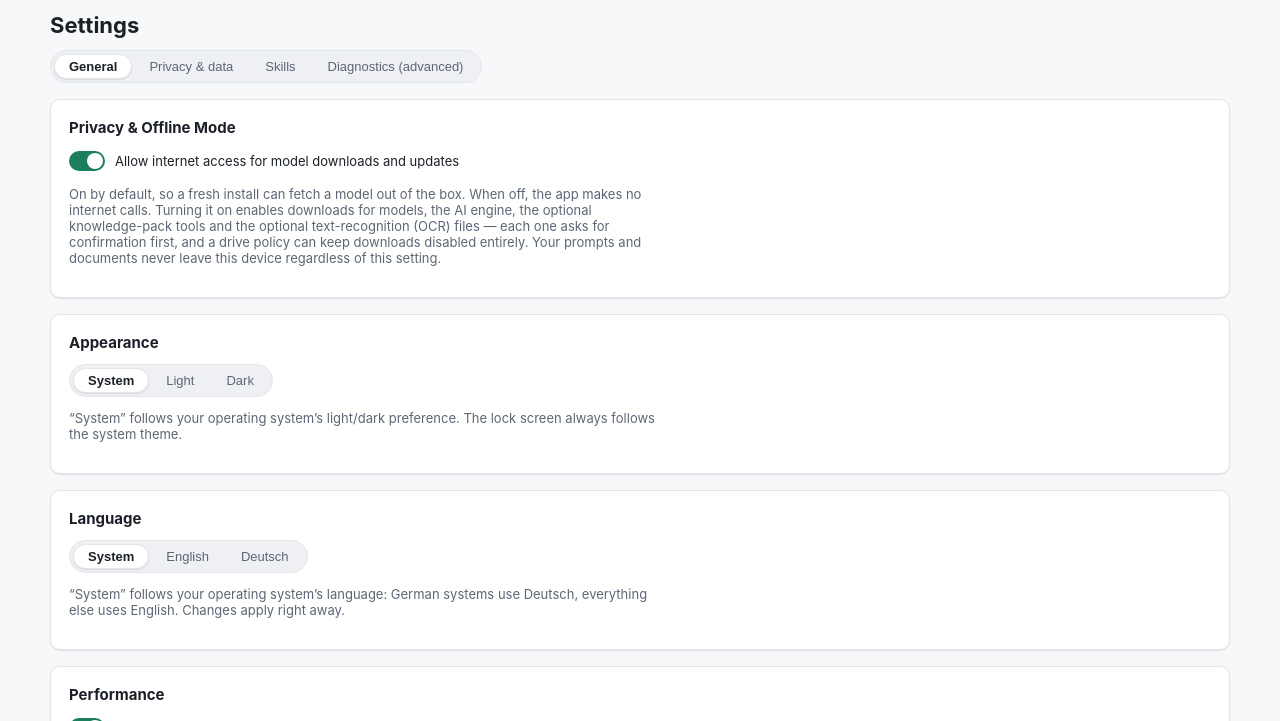
Settings → General language picker › offers System / English / Deutsch and patches uiLanguage like theme
The width and height of the screenshot is (1280, 721).
Check: the radio button labelled "English" is shown, box [151,544,224,569]
Click the radio button labelled "Deutsch" at (265, 556), box [226,544,304,569]
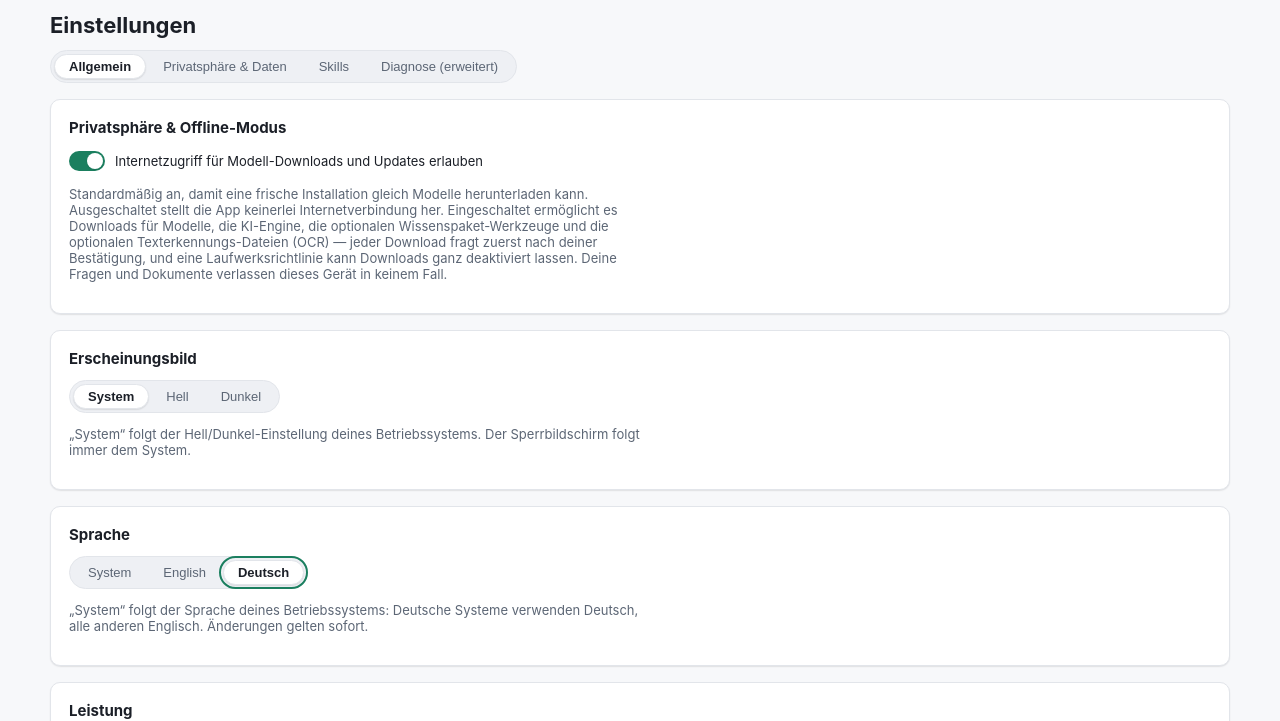
Check: the heading "Einstellungen" is shown, box [50,12,196,38]
# Back to English via the picker (its label stays untranslated in German).
Click the radio button labelled "English" at (185, 572), box [148,560,221,585]
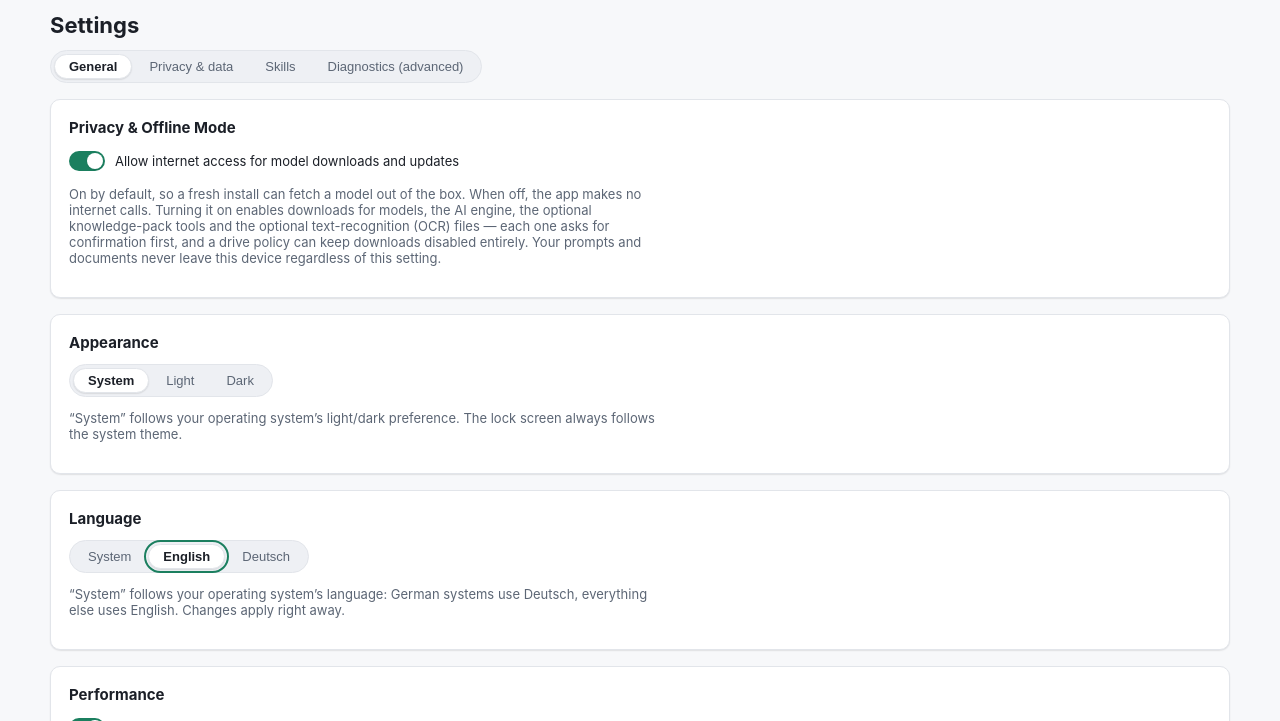
Check: the heading "Settings" is shown, box [50,12,139,38]
